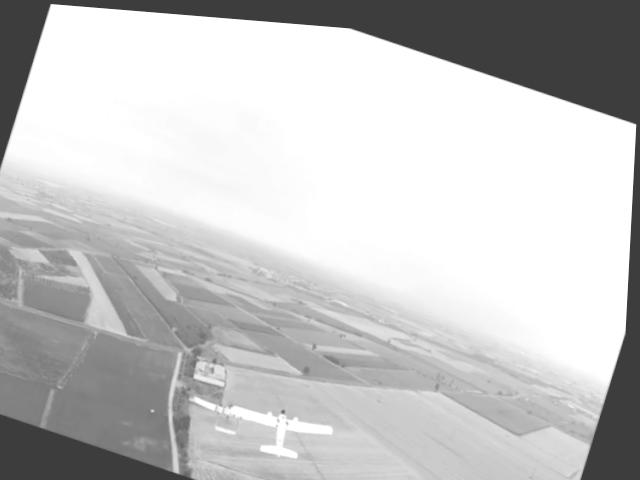hedef: (221, 375, 354, 478)
